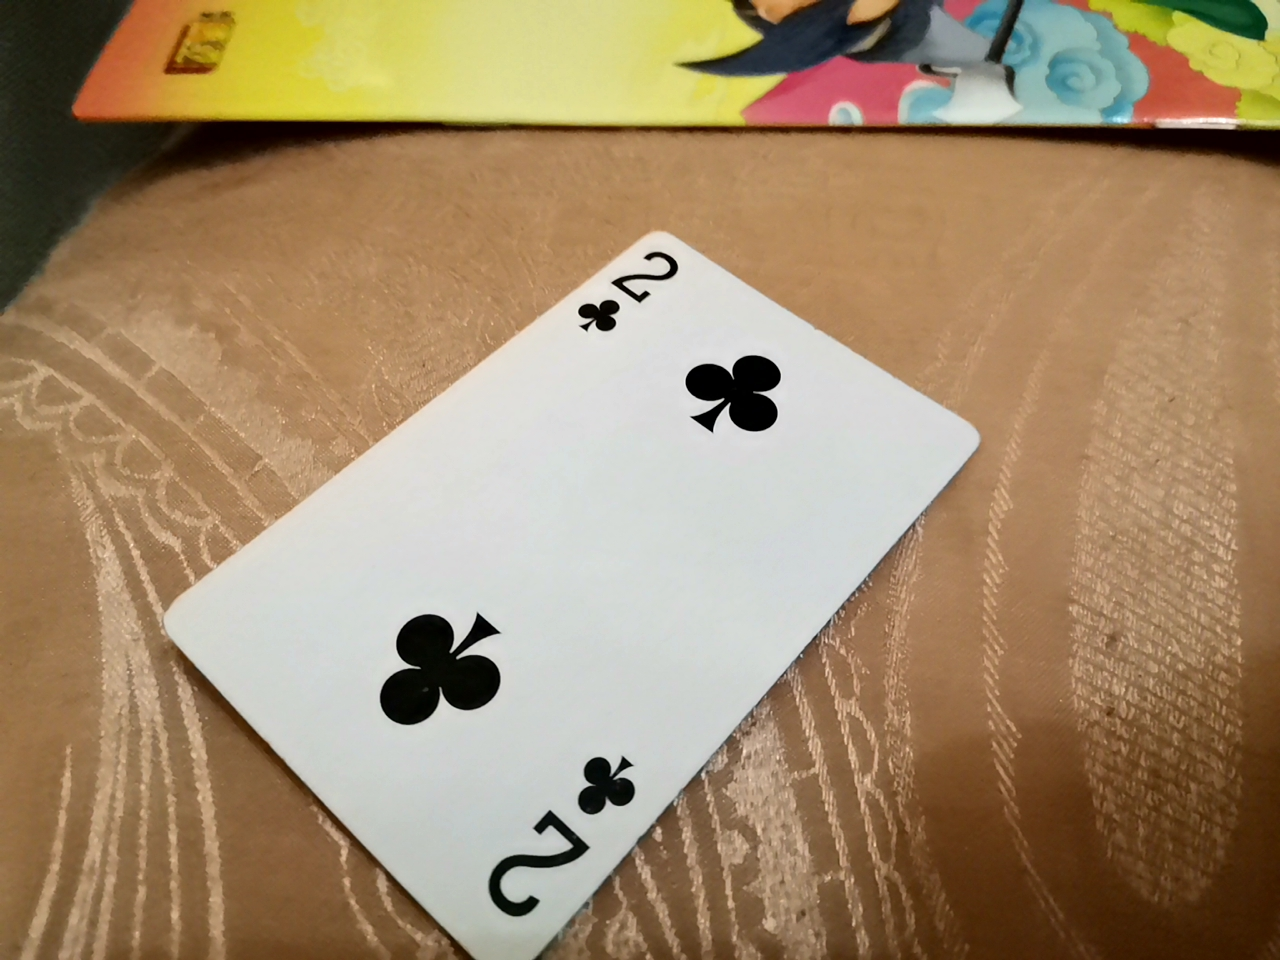mh 2: (116, 234, 964, 958)
